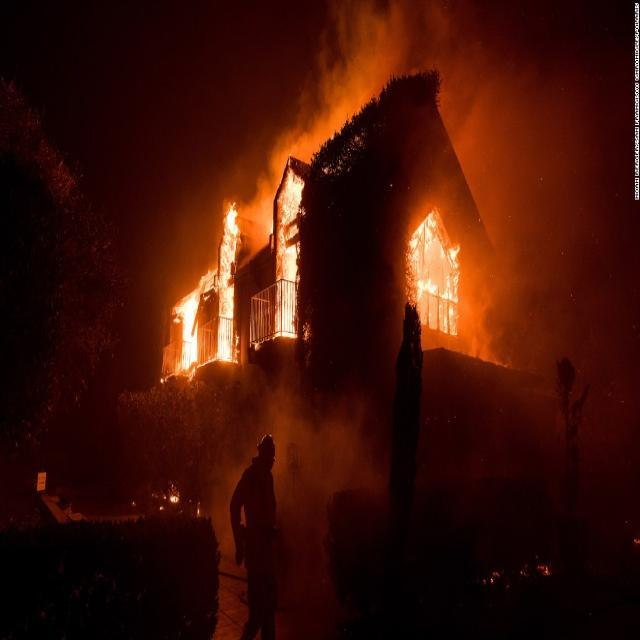Fire: (161, 154, 462, 370)
Smoke: (461, 0, 589, 370), (284, 0, 460, 150)
